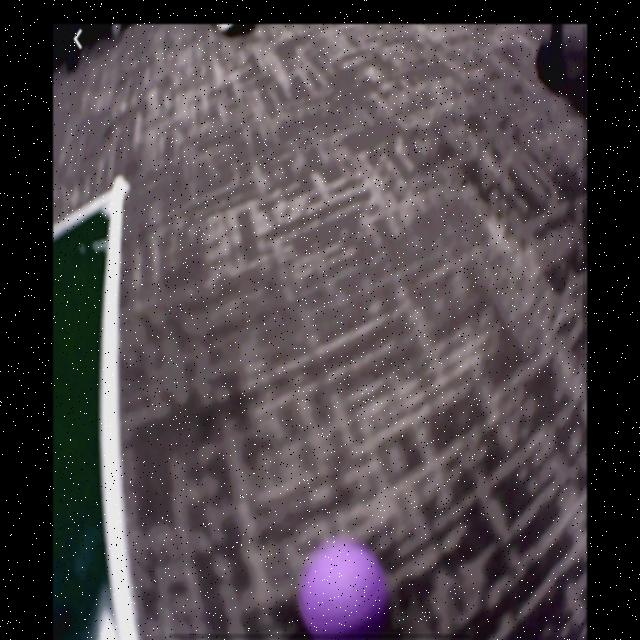ball: (296, 537, 391, 637)
